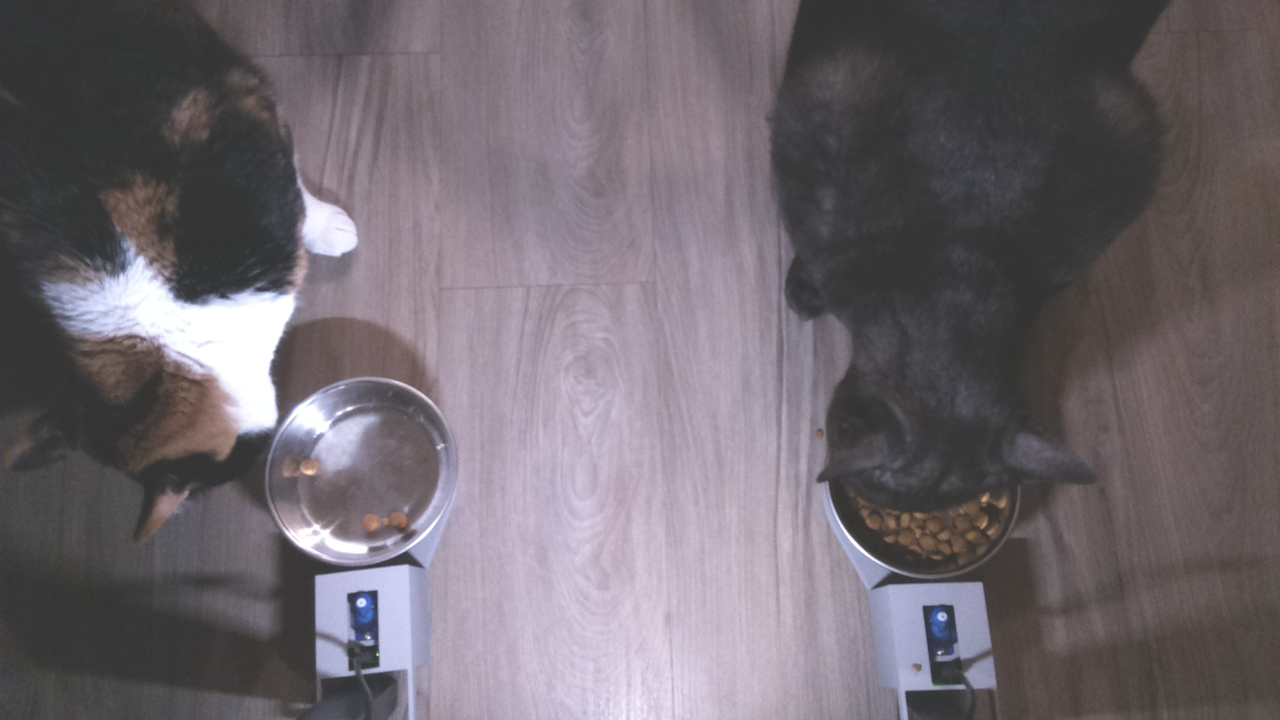bella: (1, 271, 277, 544)
open_bowl: (262, 369, 462, 573)
saki_eating: (806, 301, 1118, 587)
